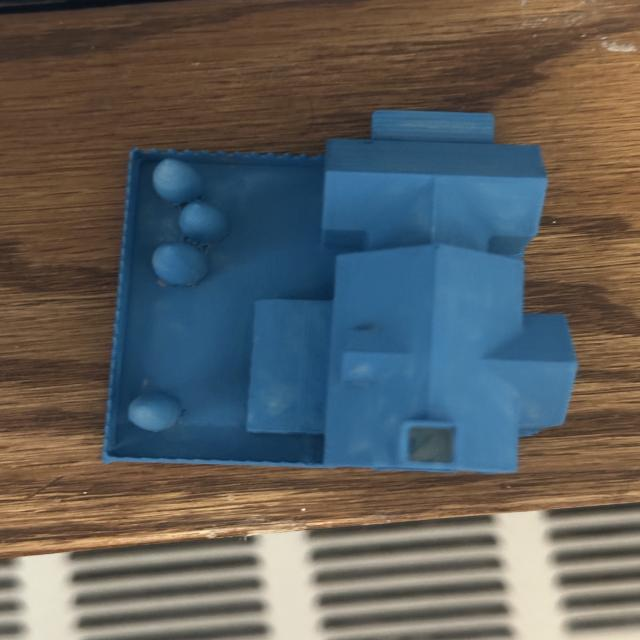house: (97, 106, 583, 477)
